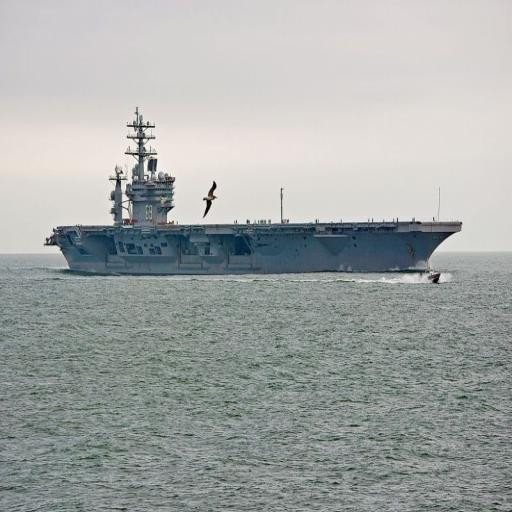Portanaves: (45, 101, 466, 278)
